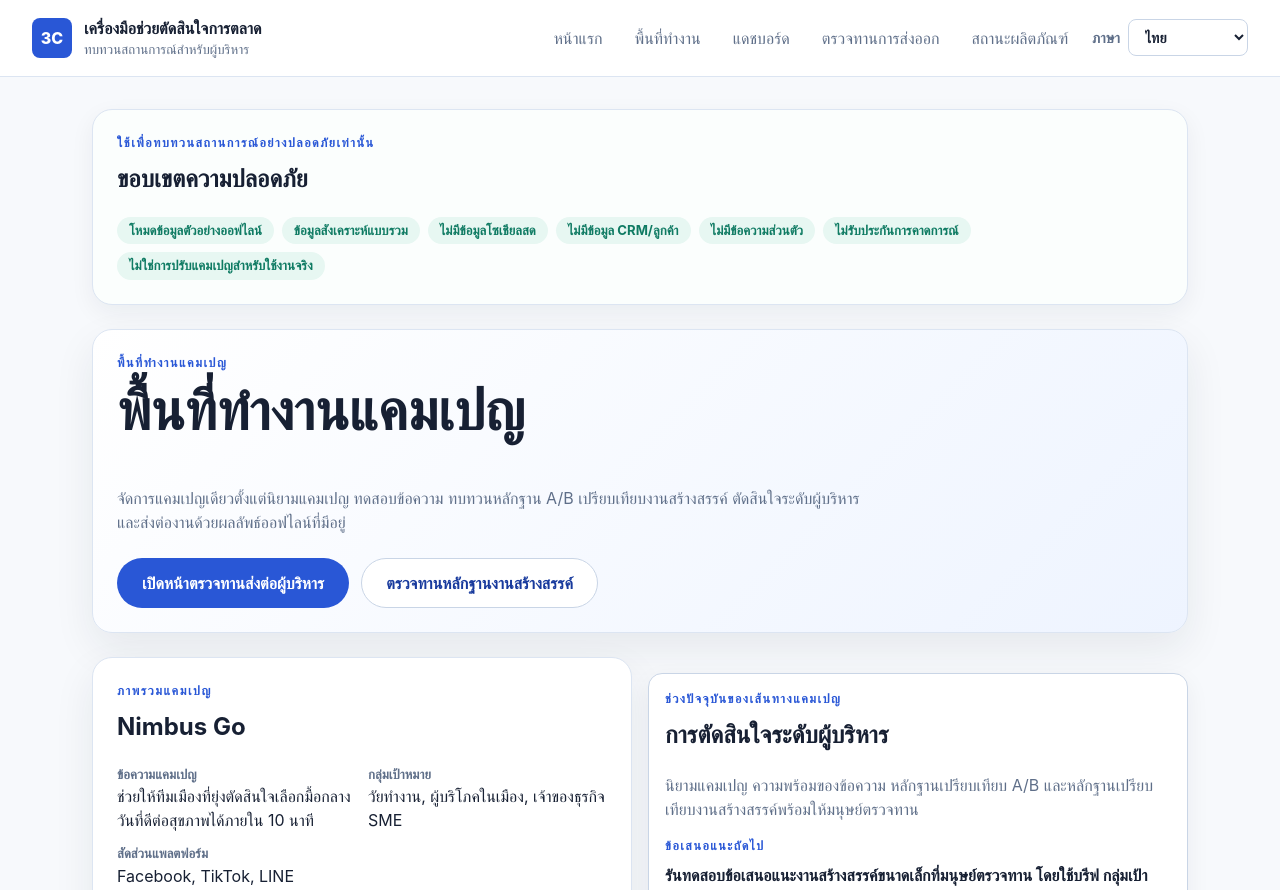
Test case: M18 Thai-first internationalization › renders Thai and English labels for /campaign-workspace
This screenshot has width=1280, height=890.
Expected: the heading "พื้นที่ทำงานแคมเปญ" is shown, [117,376,525,444]
Select "English" in the dropdown labelled "ภาษา": (1188, 38) [1128,20,1248,56]
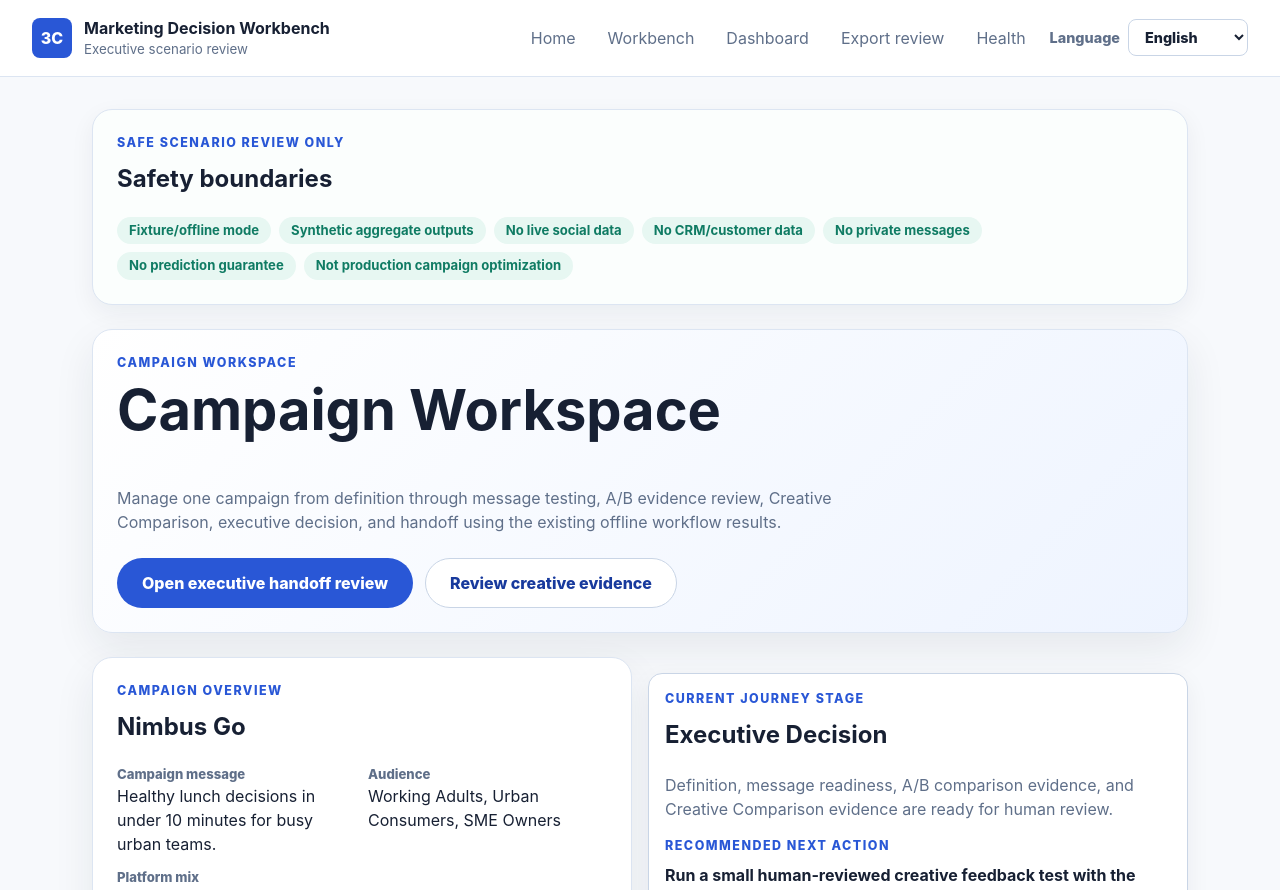
Now the heading "Campaign Workspace" is shown, box [117,376,721,444]
